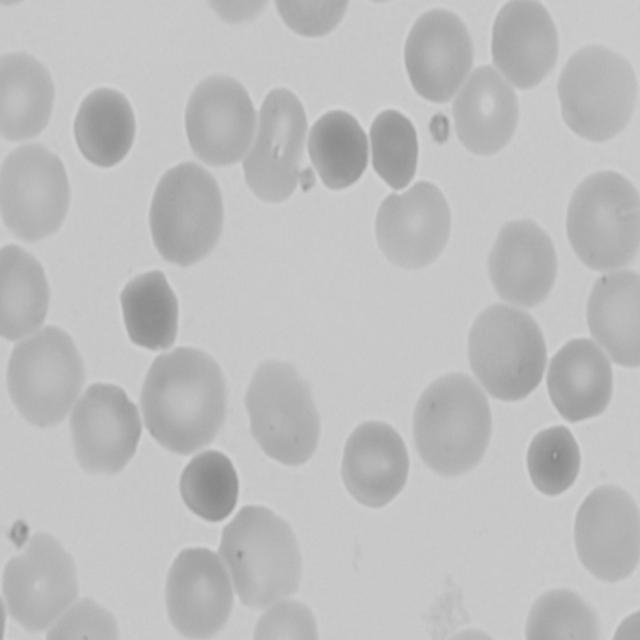Platelets: (429, 108, 456, 146)
RBC: (406, 365, 492, 482), (217, 501, 304, 612), (140, 344, 228, 452), (556, 32, 640, 144), (240, 358, 322, 472), (463, 300, 548, 409), (151, 160, 229, 272), (0, 328, 84, 432), (2, 530, 84, 634), (0, 139, 75, 249), (565, 165, 640, 272), (182, 66, 260, 168), (403, 3, 478, 107), (373, 178, 452, 272), (160, 539, 232, 640), (69, 376, 143, 474), (487, 212, 562, 308), (572, 478, 640, 583), (338, 418, 413, 511), (488, 0, 564, 90), (245, 85, 305, 198), (542, 334, 614, 422), (454, 59, 520, 154), (584, 261, 640, 367), (0, 45, 60, 143), (304, 104, 371, 190), (0, 240, 56, 340), (117, 268, 180, 352), (364, 104, 425, 188), (520, 584, 598, 640), (42, 599, 128, 640), (247, 596, 322, 640), (272, 0, 350, 39), (199, 0, 277, 29), (603, 609, 640, 640)
Spherocyte: (70, 82, 138, 170), (176, 445, 242, 526), (523, 424, 584, 501)
